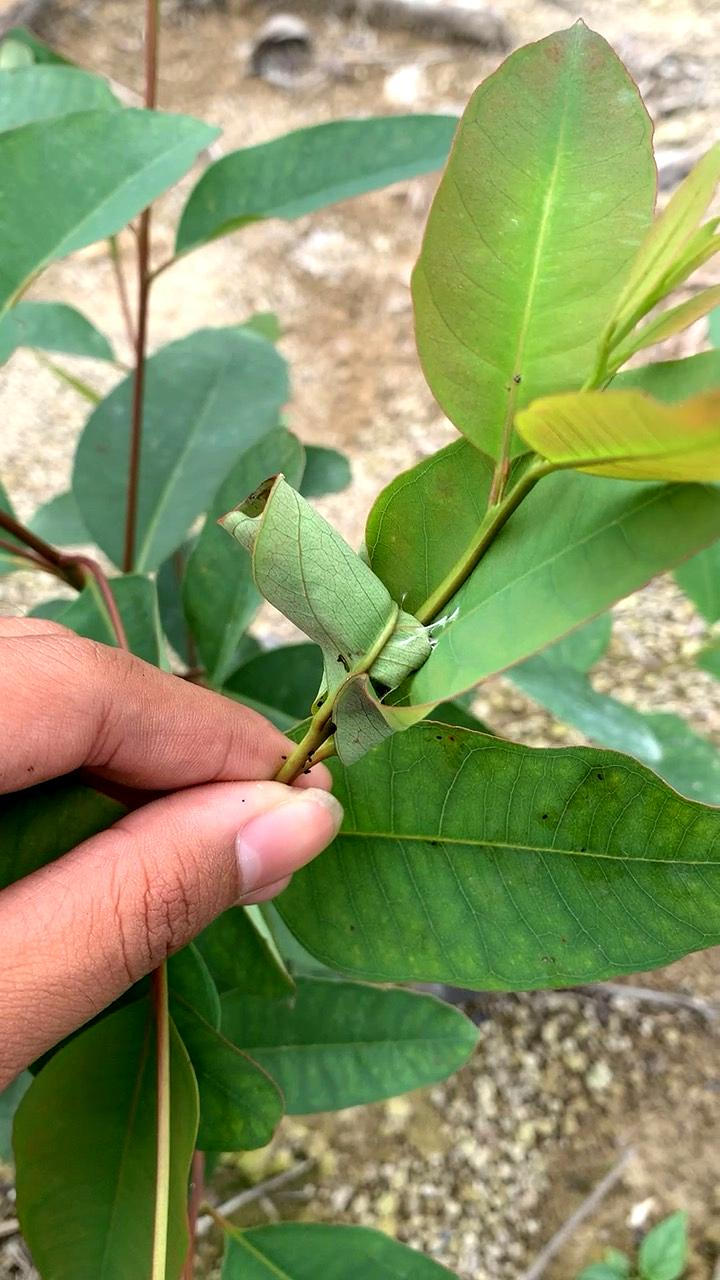Leaf Roller - Leaf: (198, 433, 477, 742)
